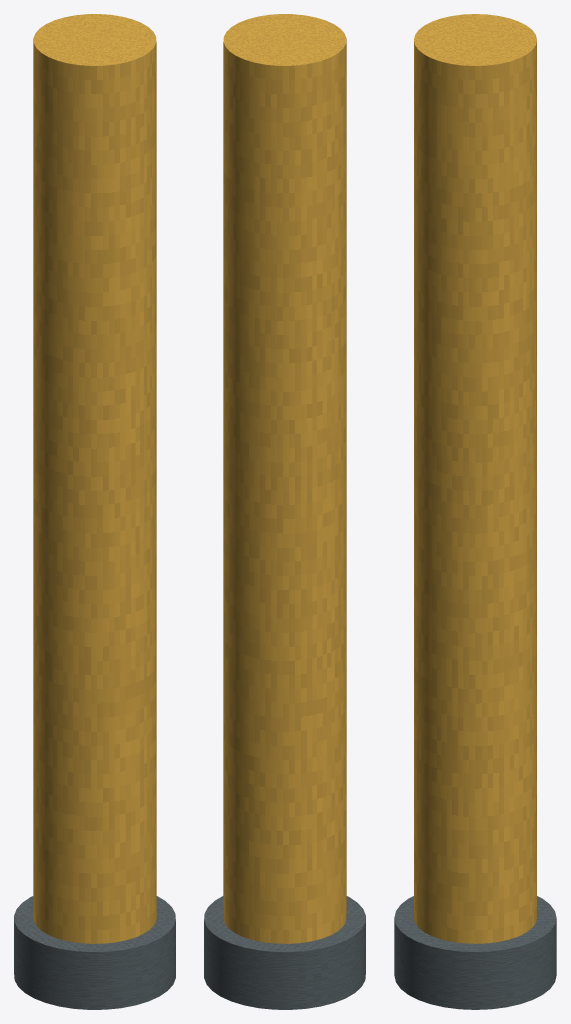
Rendered from bollard.glb.
3 renders of one model, left to right at view 1: azimuth 30°, elevation 25°; view 2: azimuth 150°, elevation 25°; view 3: azimuth 270°, elevation 25°, orthographic.
Parts seen in each view (by area): view 1: tube, base; view 2: tube, base; view 3: tube, base.
Part boxes in pixels (x1,y1,x2,y2): tube: [33, 14, 156, 943]; base: [14, 896, 175, 1009]; tube: [223, 14, 346, 943]; base: [204, 896, 365, 1009]; tube: [414, 14, 536, 943]; base: [394, 896, 556, 1009].
Size of the model in its own units: 0.16 by 1.02 by 0.16.
Materials: 2 (2 with a texture image).
